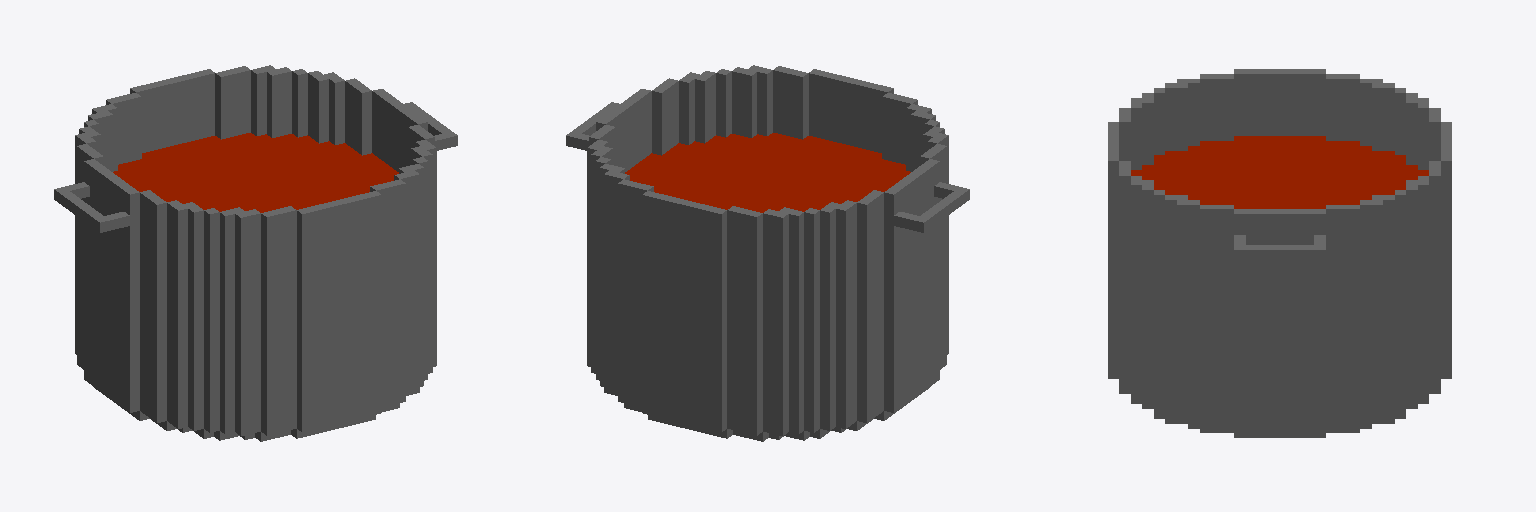
3 views of the same model, side by side, from view 1: azimuth 30°, elevation 25°; view 2: azimuth 150°, elevation 25°; view 3: azimuth 270°, elevation 25° (orthographic).
Parts seen in each view (by area): view 1: object 1; view 2: object 1; view 3: object 1.
Boxes of the visible parts, x1=… form: object 1: x1=54, y1=65, x2=457, y2=441; object 1: x1=566, y1=65, x2=969, y2=441; object 1: x1=1108, y1=69, x2=1451, y2=437.
Bounding box in the file's own units: 3.6 × 2.2 × 3.
1 materials, 1 textured.